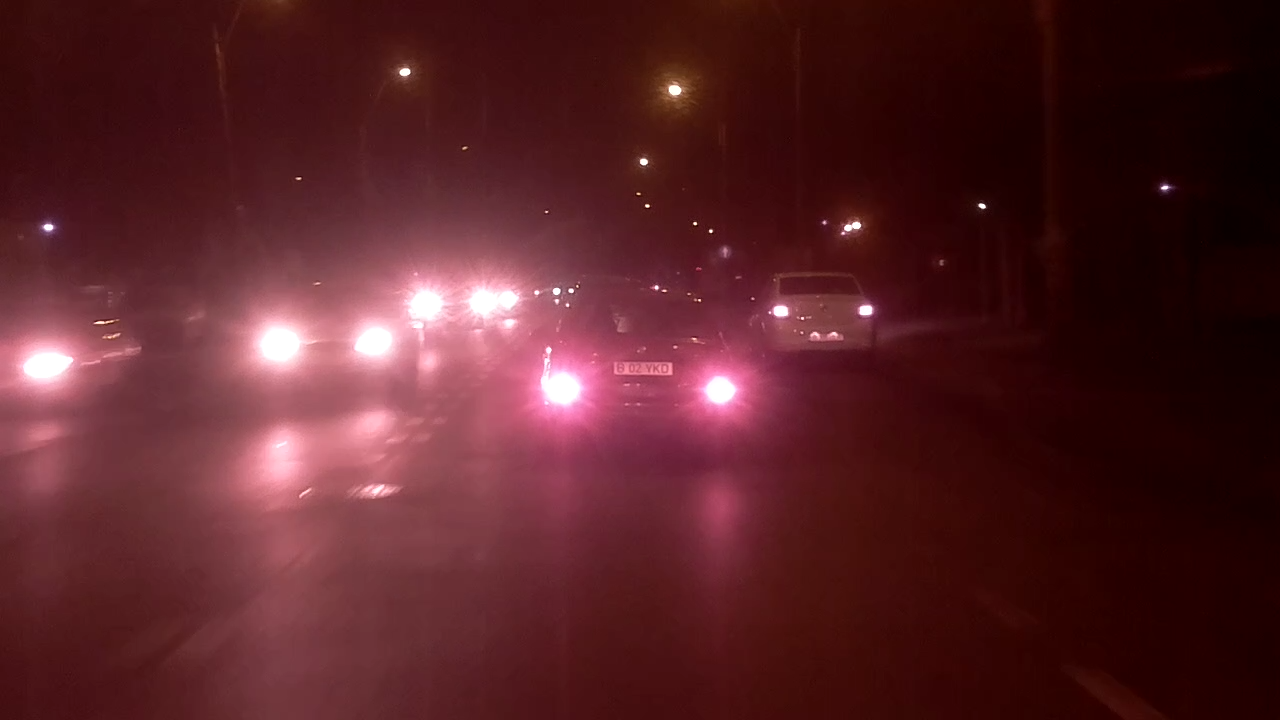license-plate: (605, 357, 677, 379)
